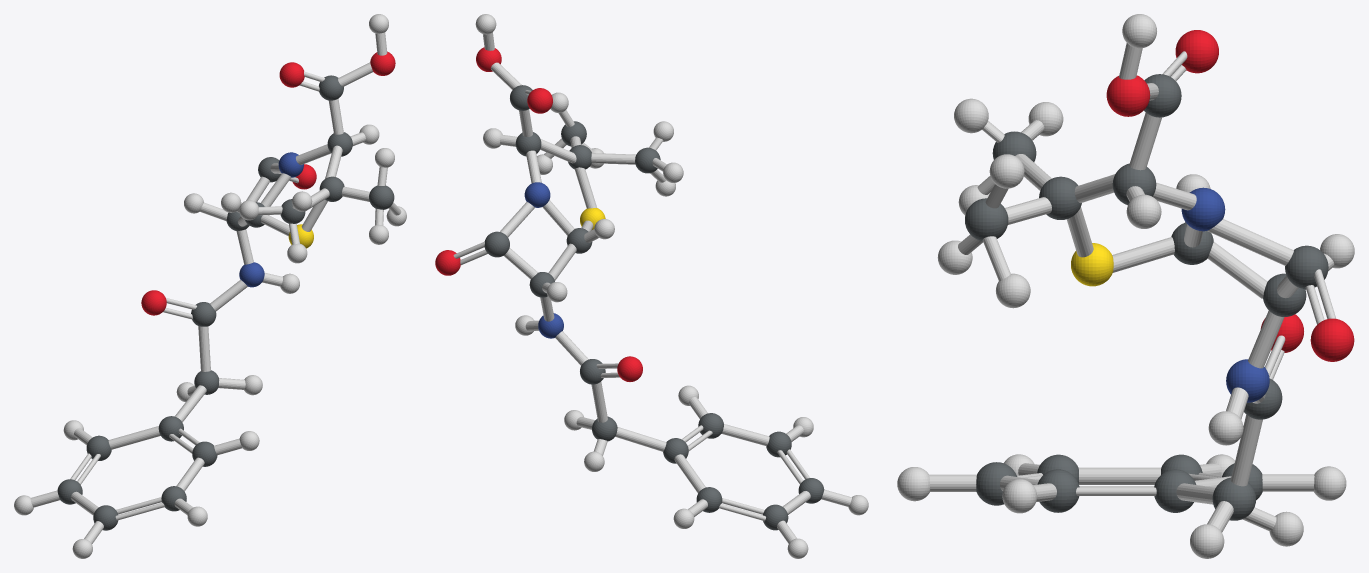
Rendered from tinker.obj.
3 renders of one model, left to right at view 1: azimuth 30°, elevation 25°; view 2: azimuth 150°, elevation 25°; view 3: azimuth 270°, elevation 25°, orthographic. The views are drawn at different scales.
Parts seen in each view (by area): view 1: group_16448250, group_6383466, group_15277357, group_3888547; view 2: group_16448250, group_6383466, group_15277357, group_3888547; view 3: group_16448250, group_6383466, group_15277357, group_3888547, group_16768282.
Boxes of the visible parts, bbox=[...] form: group_16448250: bbox=[14, 14, 406, 558]; group_6383466: bbox=[57, 75, 394, 530]; group_15277357: bbox=[141, 51, 395, 315]; group_3888547: bbox=[239, 152, 303, 287]; group_16448250: bbox=[453, 14, 868, 558]; group_6383466: bbox=[484, 85, 824, 530]; group_15277357: bbox=[435, 47, 642, 381]; group_3888547: bbox=[524, 182, 563, 338]; group_16448250: bbox=[897, 14, 1354, 558]; group_6383466: bbox=[965, 74, 1328, 520]; group_15277357: bbox=[1106, 30, 1354, 361]; group_3888547: bbox=[1181, 187, 1269, 402]; group_16768282: bbox=[1071, 243, 1113, 286].
Size of the model in its own units: 160 by 190 by 105.
